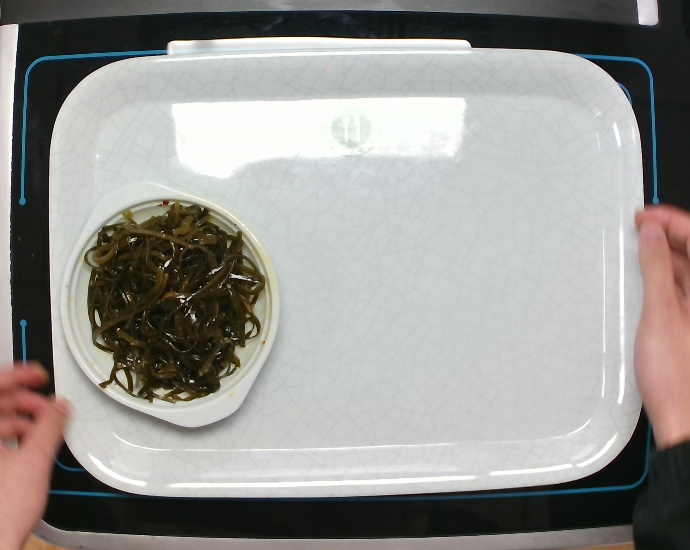JYsf-Shuang_Er_Pan: (54, 177, 286, 437)
